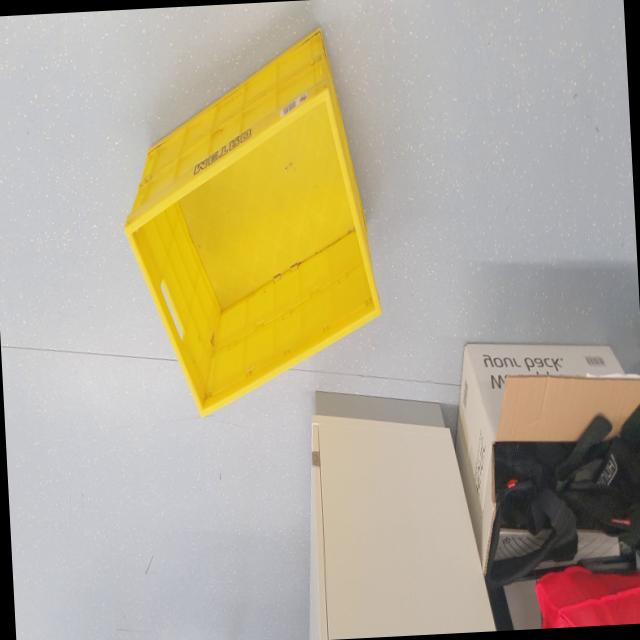box: (109, 19, 398, 438)
